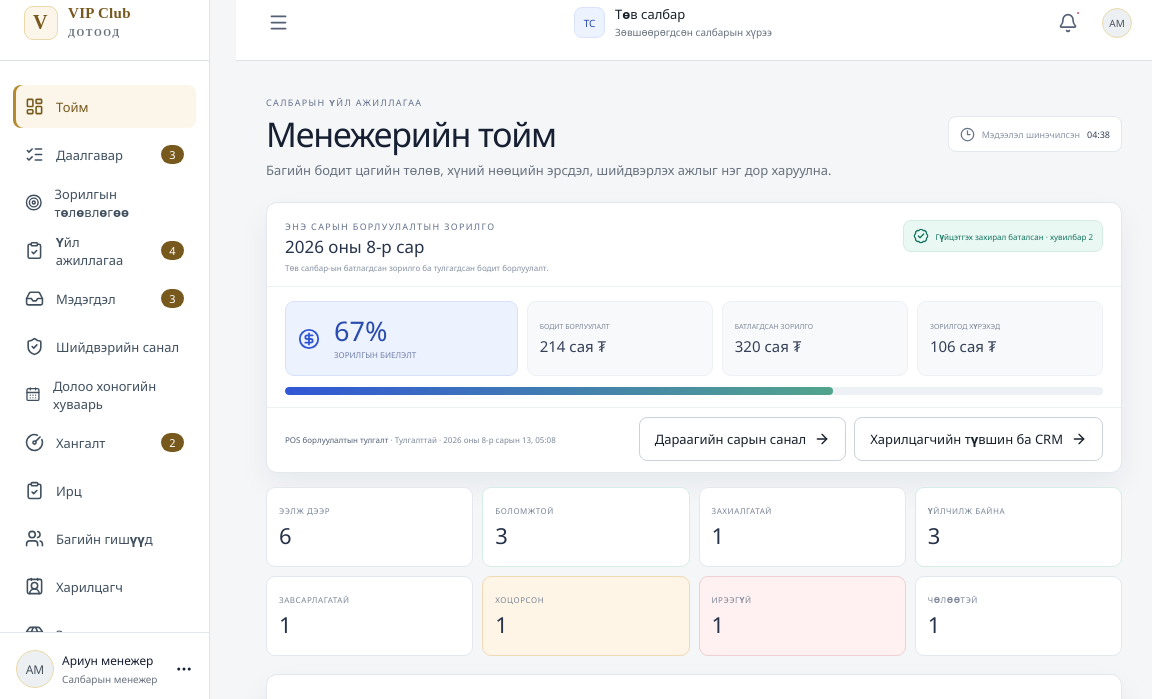
it: WeeklySchedulePage › manages the branch reservation queue from request to confirmation
Click the link "Үйл ажиллагаа 4" at (104, 250), box top-left (13, 229), bottom-right (196, 272)
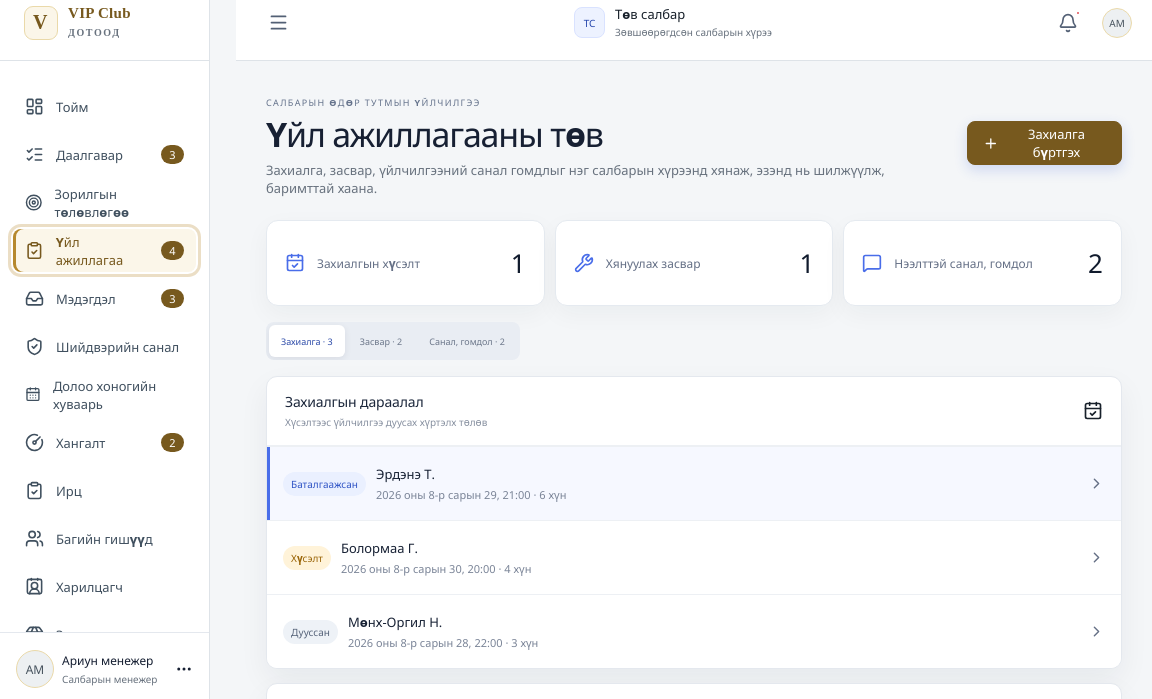
Expected: the heading "Үйл ажиллагааны төв" is shown, top-left (266, 111), bottom-right (603, 157)
Click the button "Хүсэлт Болормаа Г. 2026 оны 8-р сарын 30, 20:00 · 4 хүн" at (307, 558), box top-left (267, 520), bottom-right (1121, 594)
(page scrolled)
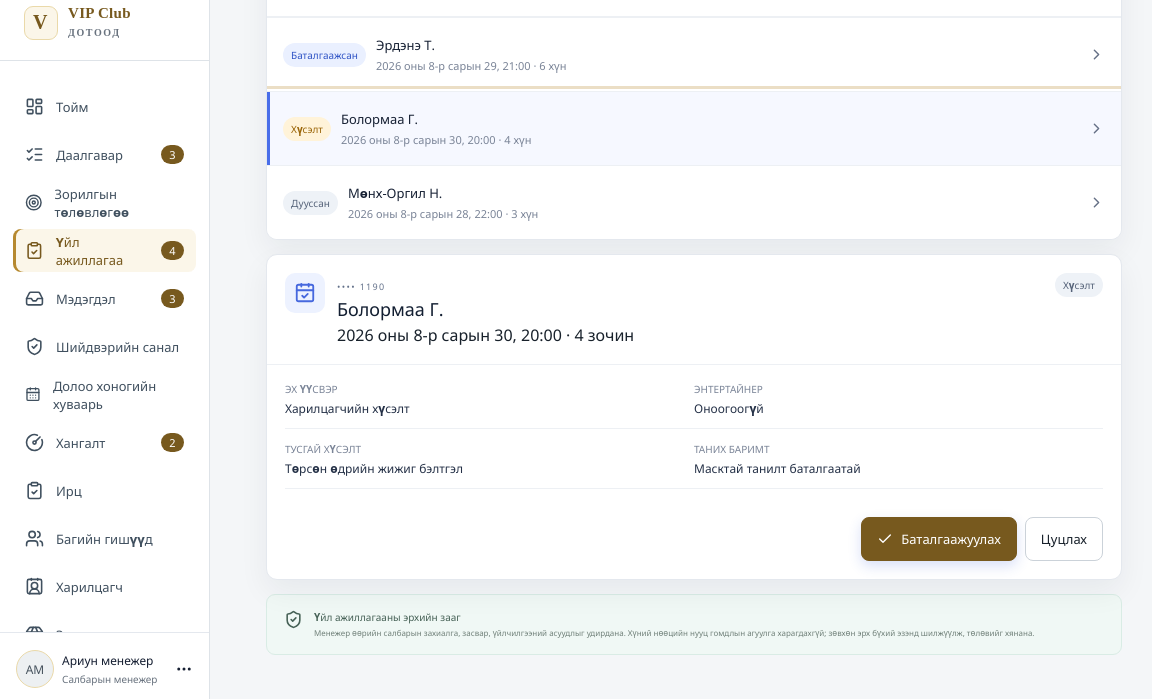
Expected: the heading "Болормаа Г." is shown, top-left (337, 297), bottom-right (444, 321)
Click the button "Баталгаажуулах" at (939, 539), box top-left (861, 517), bottom-right (1017, 561)
(page scrolled)
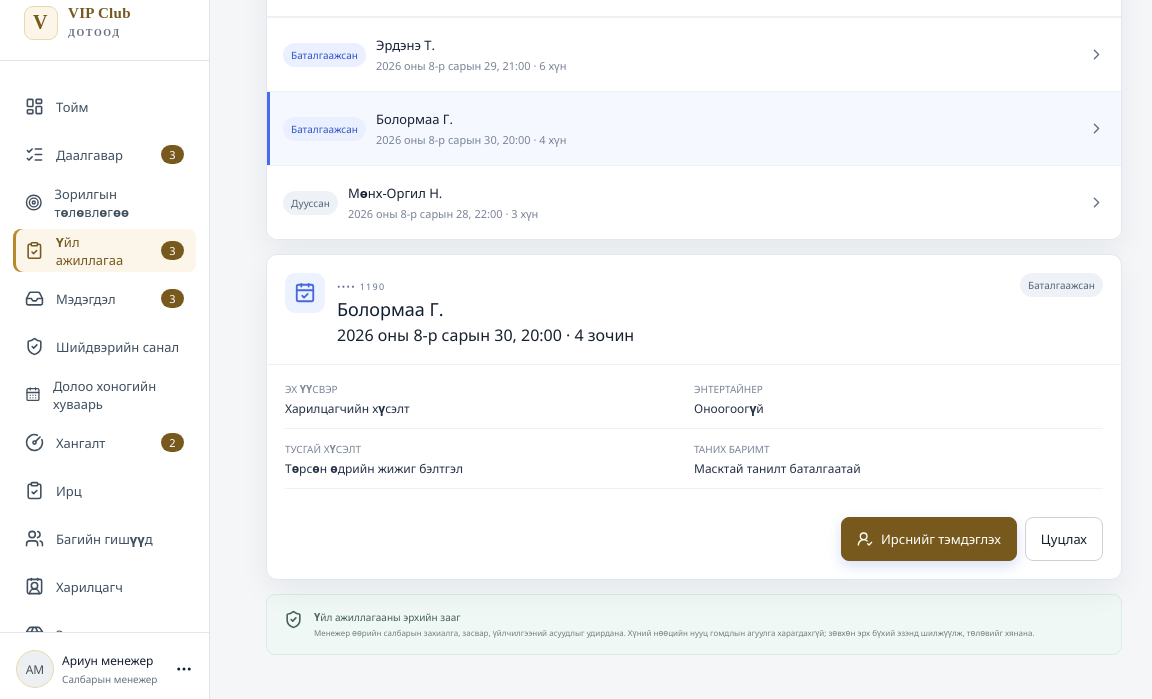
Expected: the element "Болормаа Г." shows "Баталгаажсан", top-left (1028, 278), bottom-right (1095, 292)
